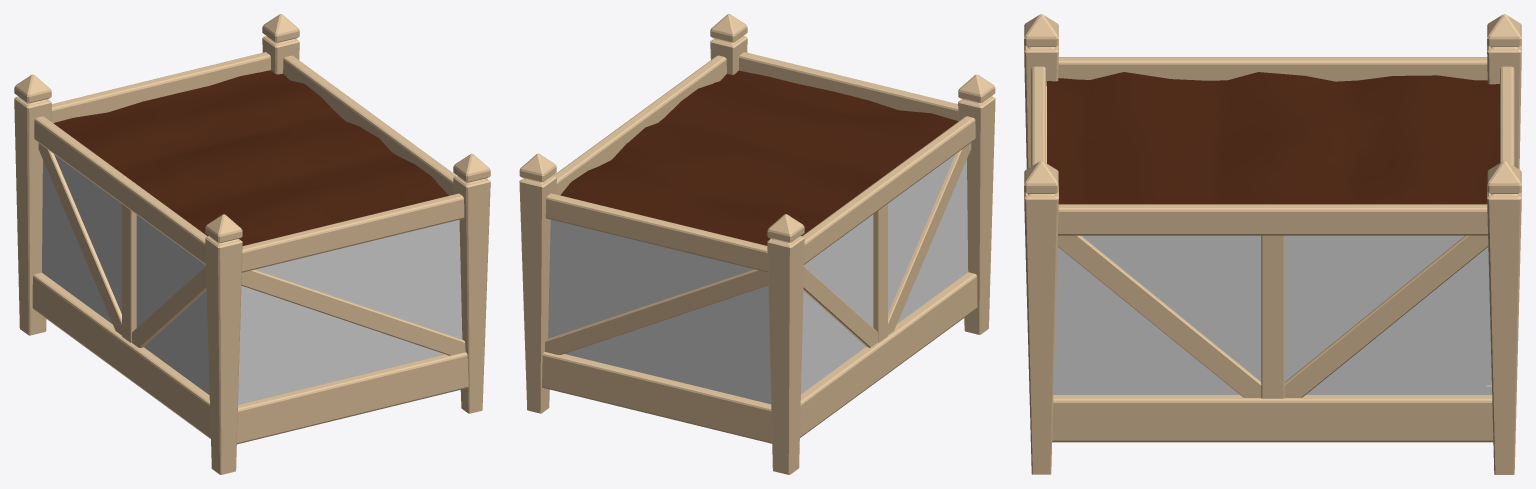
File: GardenBox00.fbx
3 views of the same model, side by side, from view 1: azimuth 30°, elevation 25°; view 2: azimuth 150°, elevation 25°; view 3: azimuth 270°, elevation 25° (orthographic). The views are drawn at different scales.
Parts seen in each view (by area): view 1: GardenBox00; view 2: GardenBox00; view 3: GardenBox00.
Part boxes in pixels (x1,y1,x2,y2): GardenBox00: [14, 14, 490, 474]; GardenBox00: [519, 14, 995, 474]; GardenBox00: [1024, 14, 1521, 474].
Size of the model in its own units: 165 by 147 by 215.
